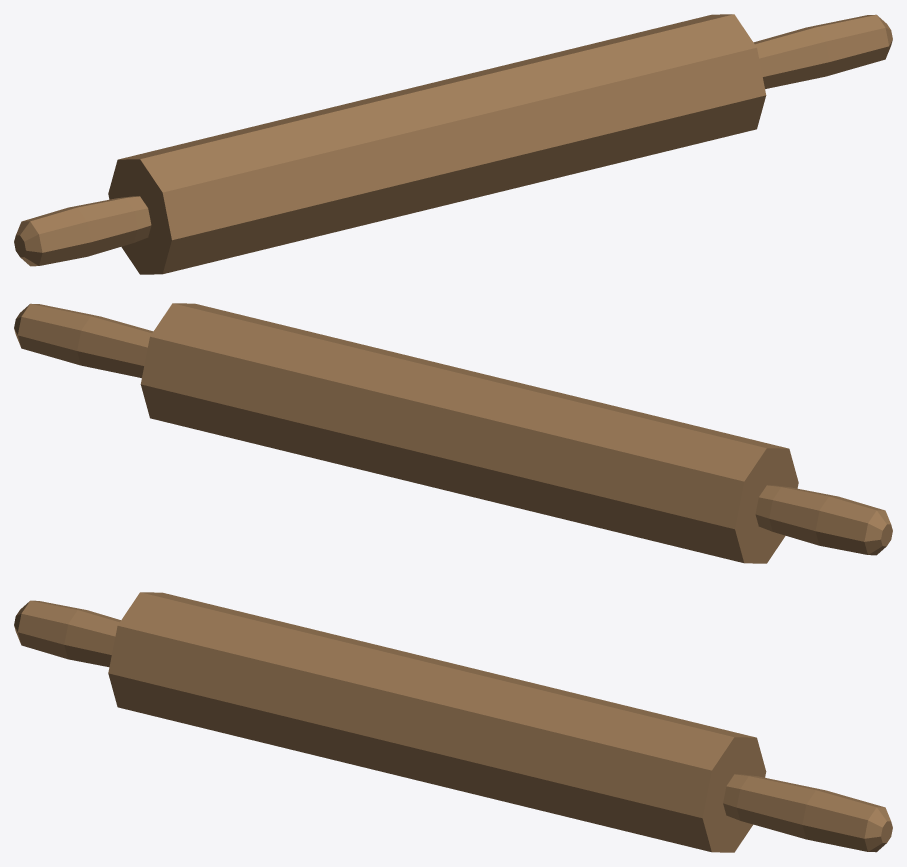
Rendered from RollingPin_01.fbx.
The picture shows the model from 3 angles, top to bottom: view 1: azimuth 30°, elevation 25°; view 2: azimuth 150°, elevation 25°; view 3: azimuth 330°, elevation 25°; orthographic projection.
Parts seen in each view (by area): view 1: RollingPin_01; view 2: RollingPin_01; view 3: RollingPin_01.
Boxes of the visible parts, x1,y1,x2,y2 form: RollingPin_01: (14, 14, 892, 274); RollingPin_01: (14, 303, 892, 563); RollingPin_01: (14, 592, 892, 852).
Bounding box in the file's own units: 40.84 × 5.2 × 5.2.
